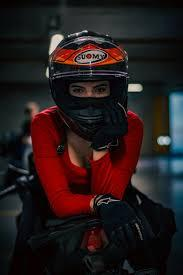Helmet: (49, 30, 126, 139)
